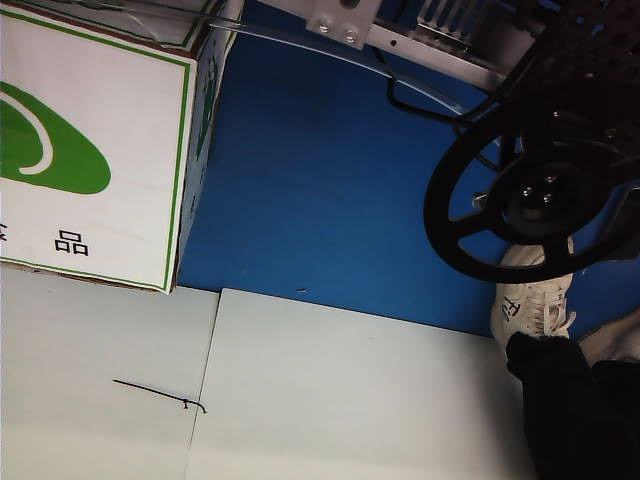Cube_food: (0, 46, 121, 265)
